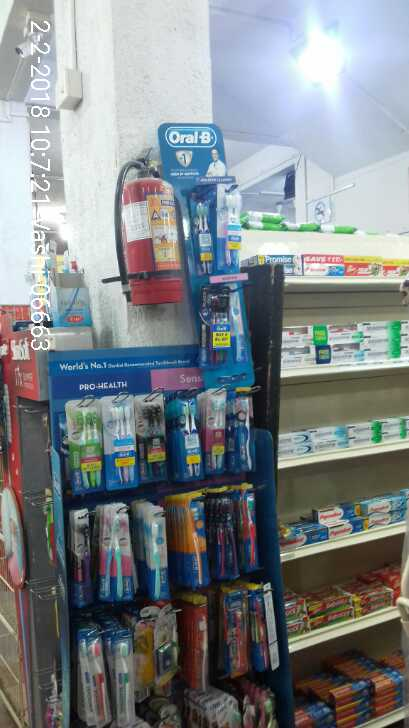oralb: (187, 188, 250, 273), (102, 508, 141, 601), (64, 398, 100, 488), (166, 393, 205, 476), (104, 397, 137, 488), (185, 490, 213, 583), (202, 388, 228, 469), (144, 519, 169, 591), (235, 394, 253, 471)
